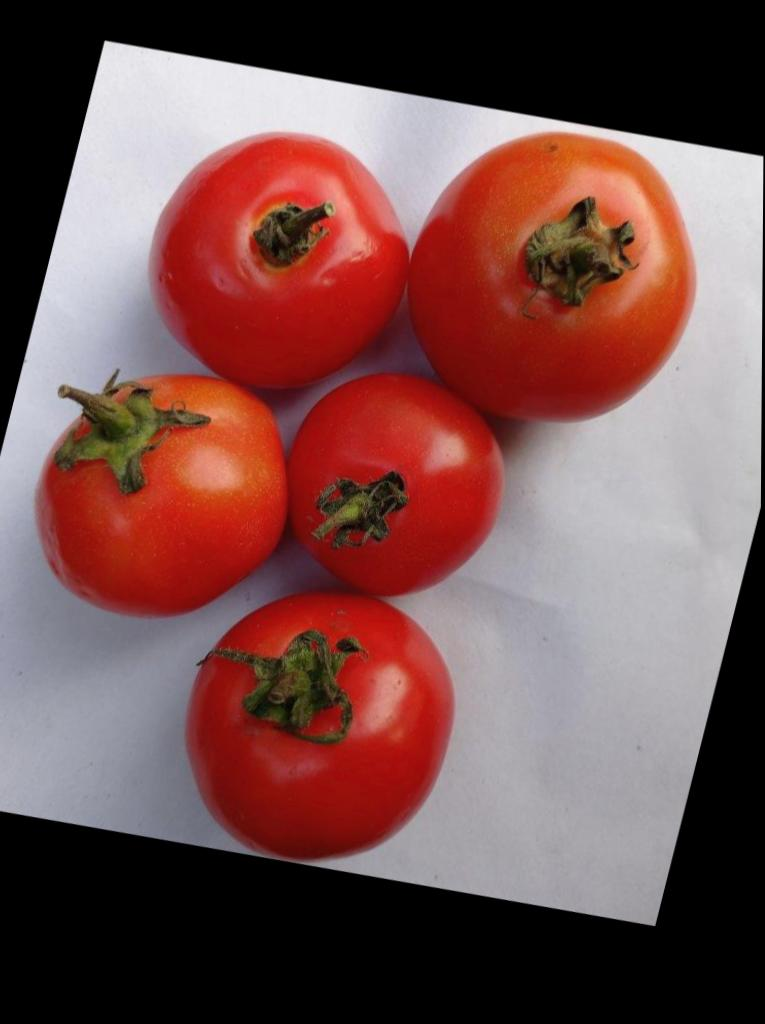tomato: (408, 133, 690, 421), (184, 593, 450, 860), (149, 135, 399, 386), (33, 376, 279, 616), (289, 375, 498, 595)
